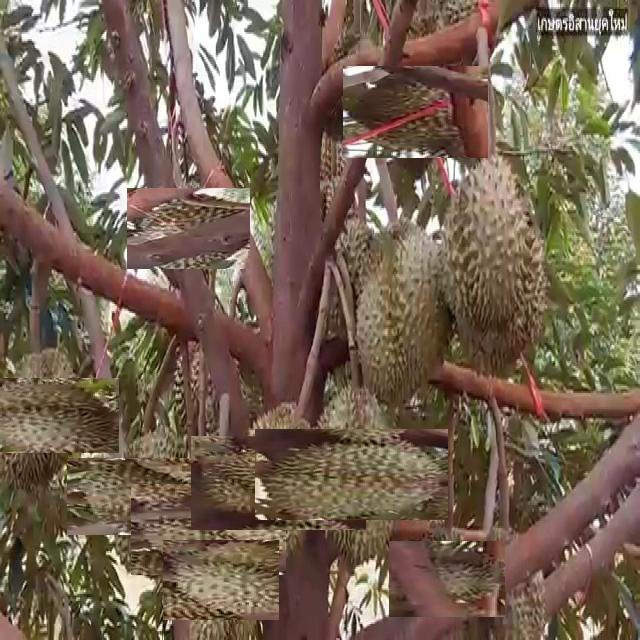durian: (432, 149, 550, 379), (349, 214, 457, 411), (280, 404, 423, 546), (210, 415, 346, 551), (147, 468, 271, 591), (90, 435, 212, 558), (356, 53, 475, 171), (0, 358, 100, 471), (138, 177, 240, 280), (172, 531, 271, 629), (470, 517, 548, 638), (399, 531, 495, 628)
